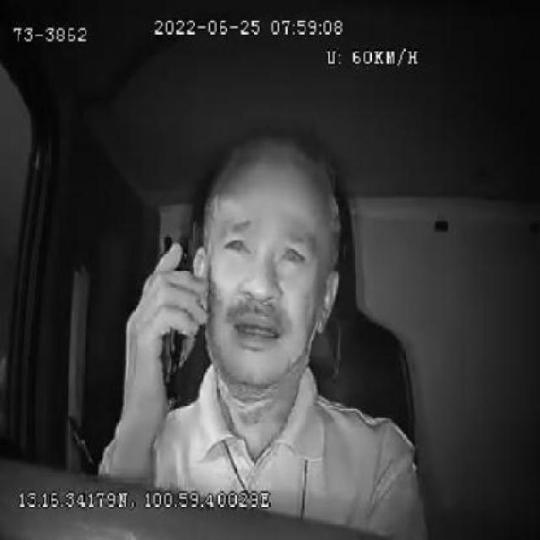phone: (160, 232, 188, 408)
